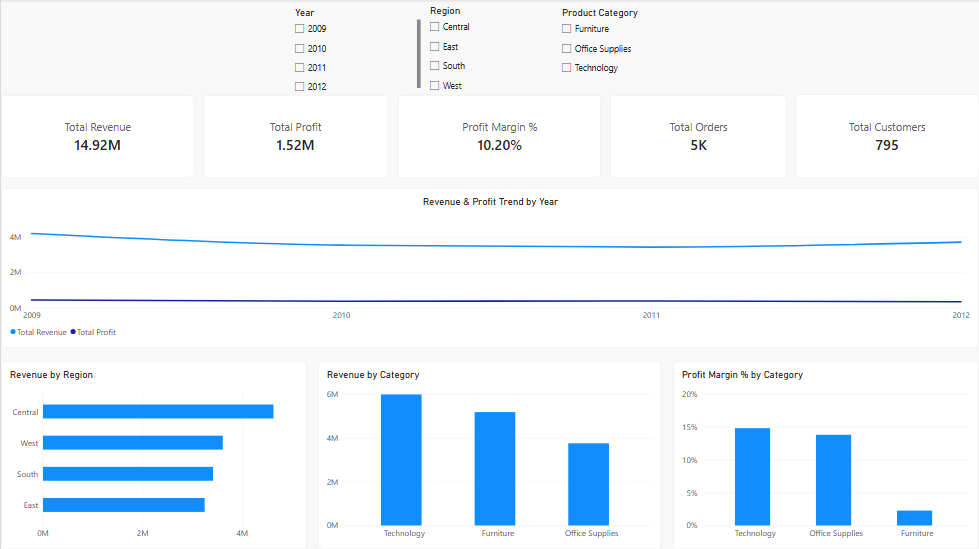

Layout of this report page (visuals, bound fields, positions):
{"tool":"powerbi","page":{"name":"Overview","canvas":[1920,1080],"ordinal":0},"visuals":[{"type":"cardVisual","fields":{"Data":["_Measures.Total Revenue"]},"box":[0,188,378,162],"z":0},{"type":"cardVisual","fields":{"Data":["_Measures.Total Profit"]},"box":[396,188,362,162],"z":1000},{"type":"cardVisual","fields":{"Data":["_Measures.Profit Margin %"]},"box":[780,188,398,162],"z":2000},{"type":"cardVisual","fields":{"Data":["_Measures.Total Orders"]},"box":[1196,188,346,162],"z":3000},{"type":"cardVisual","fields":{"Data":["_Measures.Total Customers"]},"box":[1560,186,360,164],"z":4000},{"type":"clusteredBarChart","title":"Revenue by Region","fields":{"Category":["public customers.region"],"Y":["_Measures.Total Revenue"]},"box":[0,710,600,370],"z":5000},{"type":"clusteredColumnChart","title":"Revenue by Category","fields":{"Category":["public products.product_category"],"Y":["_Measures.Total Revenue"]},"box":[622,710,674,370],"z":6000},{"type":"clusteredColumnChart","title":"Profit Margin % by Category","fields":{"Category":["public products.product_category"],"Y":["_Measures.Profit Margin %"]},"box":[1320,710,600,370],"z":7000},{"type":"lineChart","title":"Revenue & Profit Trend by Year","fields":{"Category":["DateTable.Year"],"Y":["_Measures.Total Revenue","_Measures.Total Profit"]},"box":[0,372,1920,314],"z":8000},{"type":"slicer","fields":{"Values":["DateTable.Year"]},"box":[570.2,15.1,254.9,170.6],"z":9000},{"type":"slicer","fields":{"Values":["public customers.region"]},"box":[834,12.5,252,176],"z":10000},{"type":"slicer","fields":{"Values":["public products.product_category"]},"box":[1093,15.1,252.7,170.6],"z":11000}]}

Visuals, with their boxes in screenshot pixels (x1, y1, x2, y2), scaled from the page's 1920x1080 canvas onto the 979x549 screenshot:
cardVisual - _Measures.Total Revenue: left=0, top=96, right=193, bottom=178
cardVisual - _Measures.Total Profit: left=202, top=96, right=387, bottom=178
cardVisual - _Measures.Profit Margin %: left=398, top=96, right=601, bottom=178
cardVisual - _Measures.Total Orders: left=610, top=96, right=786, bottom=178
cardVisual - _Measures.Total Customers: left=795, top=95, right=978, bottom=178
"Revenue by Region" clusteredBarChart: left=0, top=361, right=306, bottom=548
"Revenue by Category" clusteredColumnChart: left=317, top=361, right=661, bottom=548
"Profit Margin % by Category" clusteredColumnChart: left=673, top=361, right=978, bottom=548
"Revenue & Profit Trend by Year" lineChart: left=0, top=189, right=978, bottom=349
slicer - DateTable.Year: left=291, top=8, right=421, bottom=94
slicer - public customers.region: left=425, top=6, right=554, bottom=96
slicer - public products.product_category: left=557, top=8, right=686, bottom=94
